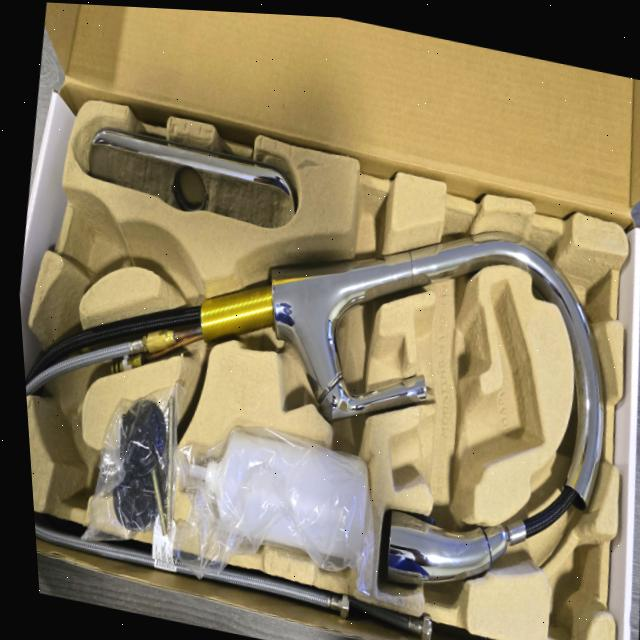1: (25, 228, 604, 586)
2m: (391, 278, 544, 490)
3: (183, 431, 372, 568)
4: (88, 127, 298, 231)
5m: (68, 205, 122, 274)
6m: (41, 403, 99, 505)
7: (81, 386, 185, 553)
